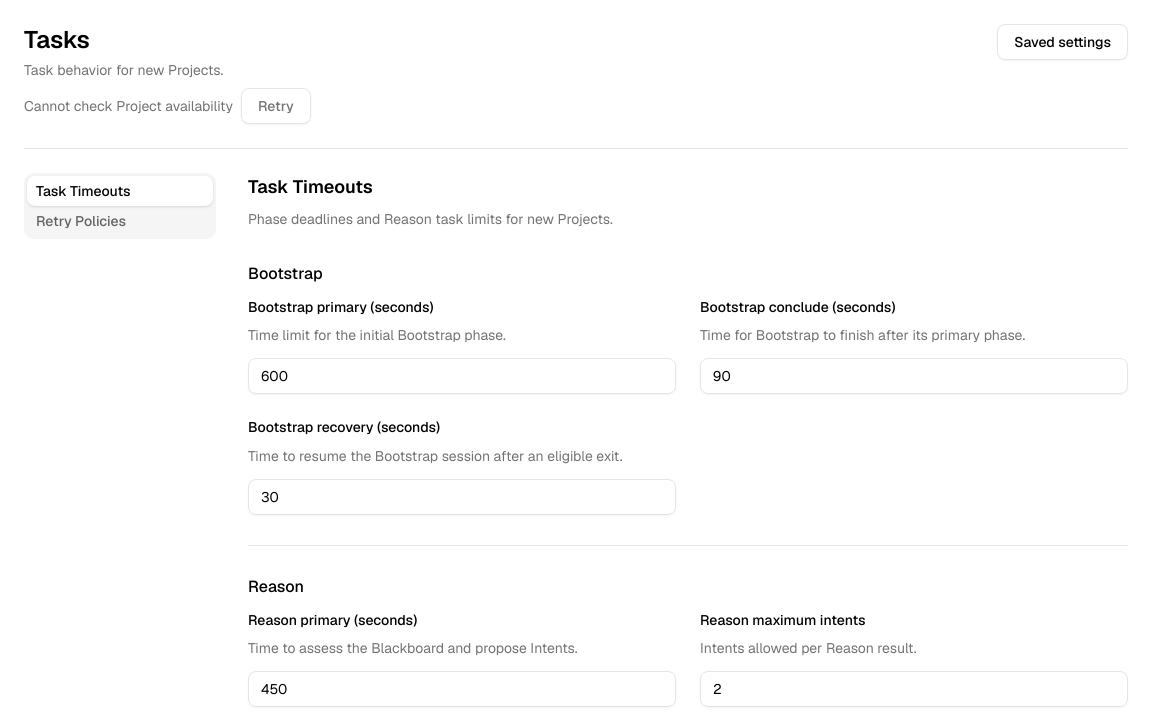
Test: saves only the task-timeouts section against its captured complete configuration
The width and height of the screenshot is (1152, 720).
Step 1. Replace the text in the field labelled "Reason maximum intents" with "3" → (914, 689), box x1=700 y1=671 x2=1128 y2=707
(page scrolled)
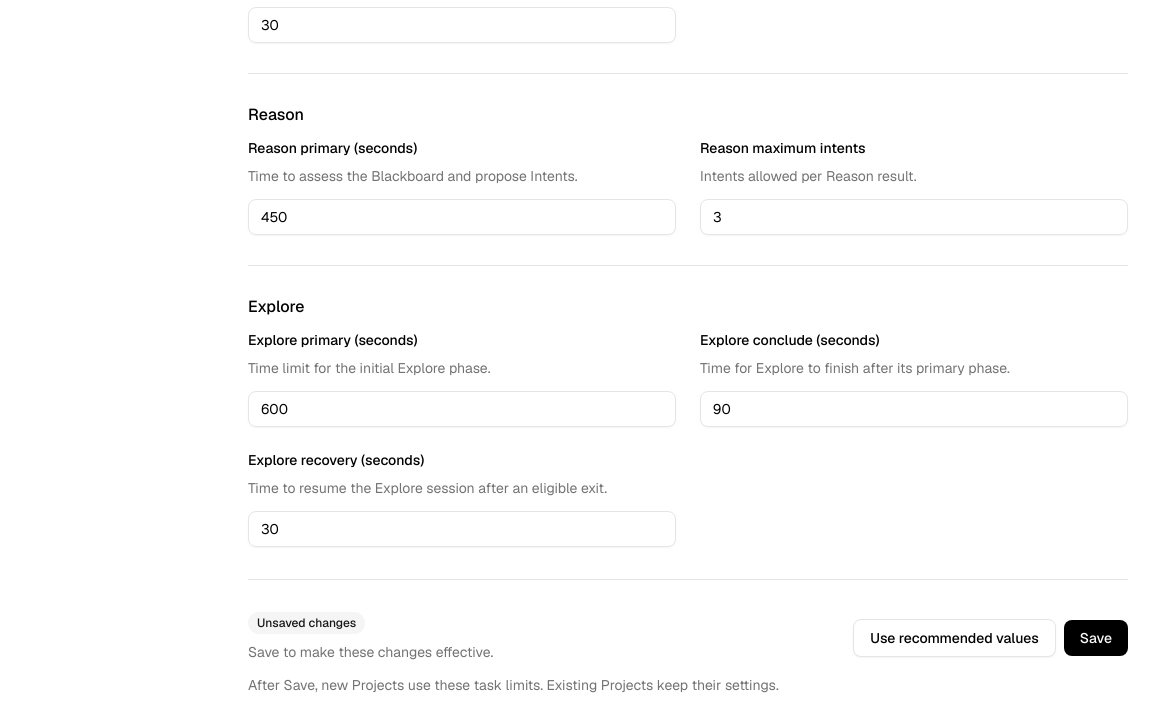
Step 2. Click the button "Save" → (1096, 638), box x1=1064 y1=620 x2=1128 y2=656
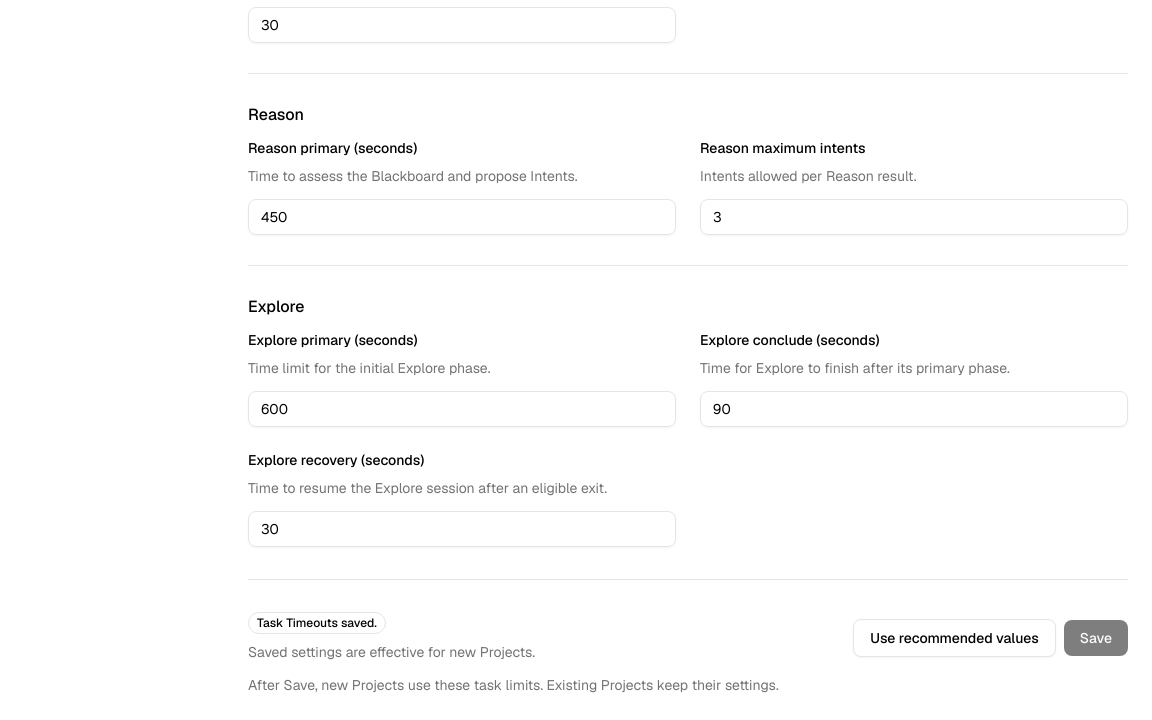
Expected: the button "Save" is disabled, x1=1064 y1=620 x2=1128 y2=656
